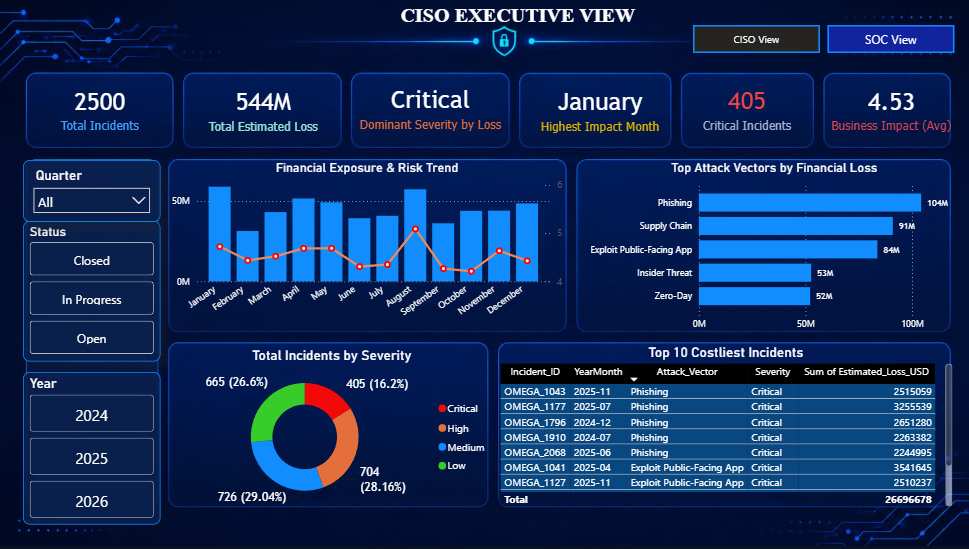

The page's visual inventory and layout, read from the dashboard file:
{"tool":"powerbi","page":{"name":"CISO View","canvas":[1284,728],"ordinal":0},"visuals":[{"type":"textbox","box":[0,0,1284.2,141.2],"z":0},{"type":"card","fields":{"Values":["Dim_measures.Total Incidents"]},"box":[40.8,93.2,182,100.5],"z":1000},{"type":"card","fields":{"Values":["Dim_measures.Total Estimated Loss"]},"box":[246.2,93.6,204.5,99.4],"z":2000},{"type":"card","fields":{"Values":["Dim_measures.Critical Incidents"]},"box":[901.3,100.5,174.7,83],"z":3000},{"type":"card","fields":{"Values":["Dim_measures.Business Impact (Avg)"]},"box":[1094.9,90.3,170.4,106.3],"z":4000},{"type":"card","fields":{"Values":["Dim_measures.Highest Impact Month"]},"box":[697.4,101.9,193.6,83],"z":5000},{"type":"card","fields":{"Values":["Dim_measures.Dominant Severity by Loss"]},"box":[461.6,97.6,215.5,85.9],"z":6000},{"type":"lineClusteredColumnComboChart","title":"Financial Exposure & Risk Trend","fields":{"Category":["Dim_Date.Month Name"],"Y":["Dim_measures.Total Estimated Loss"],"Y2":["Dim_measures.Business Impact (Avg)"]},"box":[222.8,211.1,527.1,222.8],"z":7000},{"type":"donutChart","fields":{"Category":["Fact_Incidents.Severity"],"Y":["Dim_measures.Total Incidents"]},"box":[222.8,458.6,433.9,216.9],"z":8000},{"type":"clusteredBarChart","title":"Top Attack Vectors by Financial Loss","fields":{"Category":["Fact_Incidents.Attack_Vector"],"Y":["Dim_measures.Total Estimated Loss"]},"box":[764.4,211.1,519.8,234.4],"z":9000},{"type":"tableEx","title":"Top 10 Costliest Incidents","fields":{"Values":["Fact_Incidents.Incident_ID","Dim_Date.YearMonth","Fact_Incidents.Attack_Vector","Fact_Incidents.Severity","Sum(Fact_Incidents.Estimated_Loss_USD)"]},"box":[656.7,455.7,608.6,219.9],"z":10000},{"type":"advancedSlicerVisual","fields":{"Values":["Dim_Date.Year"]},"box":[30.6,492.1,182,202.4],"z":11000},{"type":"advancedSlicerVisual","title":"Status","fields":{"Values":["Fact_Incidents.Incident_Status"]},"box":[30.6,292.7,182,186.4],"z":12000},{"type":"slicer","fields":{"Values":["Dim_Date.Fiscal Quarter"]},"box":[30.6,211.1,182,81.5],"z":13000},{"type":"pageNavigator","box":[917.3,33.5,348,37.9],"z":14000}]}

Visuals, with their boxes in screenshot pixels (x1, y1, x2, y2), scaled from the page's 1284x728 canvas onto the 969x549 screenshot:
textbox: bbox=[0, 0, 968, 106]
card - Dim_measures.Total Incidents: bbox=[31, 70, 168, 146]
card - Dim_measures.Total Estimated Loss: bbox=[186, 71, 340, 146]
card - Dim_measures.Critical Incidents: bbox=[680, 76, 812, 138]
card - Dim_measures.Business Impact (Avg): bbox=[826, 68, 955, 148]
card - Dim_measures.Highest Impact Month: bbox=[526, 77, 672, 139]
card - Dim_measures.Dominant Severity by Loss: bbox=[348, 74, 511, 138]
"Financial Exposure & Risk Trend" lineClusteredColumnComboChart: bbox=[168, 159, 566, 327]
donutChart - Fact_Incidents.Severity x Dim_measures.Total Incidents: bbox=[168, 346, 496, 509]
"Top Attack Vectors by Financial Loss" clusteredBarChart: bbox=[577, 159, 968, 336]
"Top 10 Costliest Incidents" tableEx: bbox=[496, 344, 955, 509]
advancedSlicerVisual - Dim_Date.Year: bbox=[23, 371, 160, 524]
"Status" advancedSlicerVisual: bbox=[23, 221, 160, 361]
slicer - Dim_Date.Fiscal Quarter: bbox=[23, 159, 160, 221]
pageNavigator: bbox=[692, 25, 955, 54]
